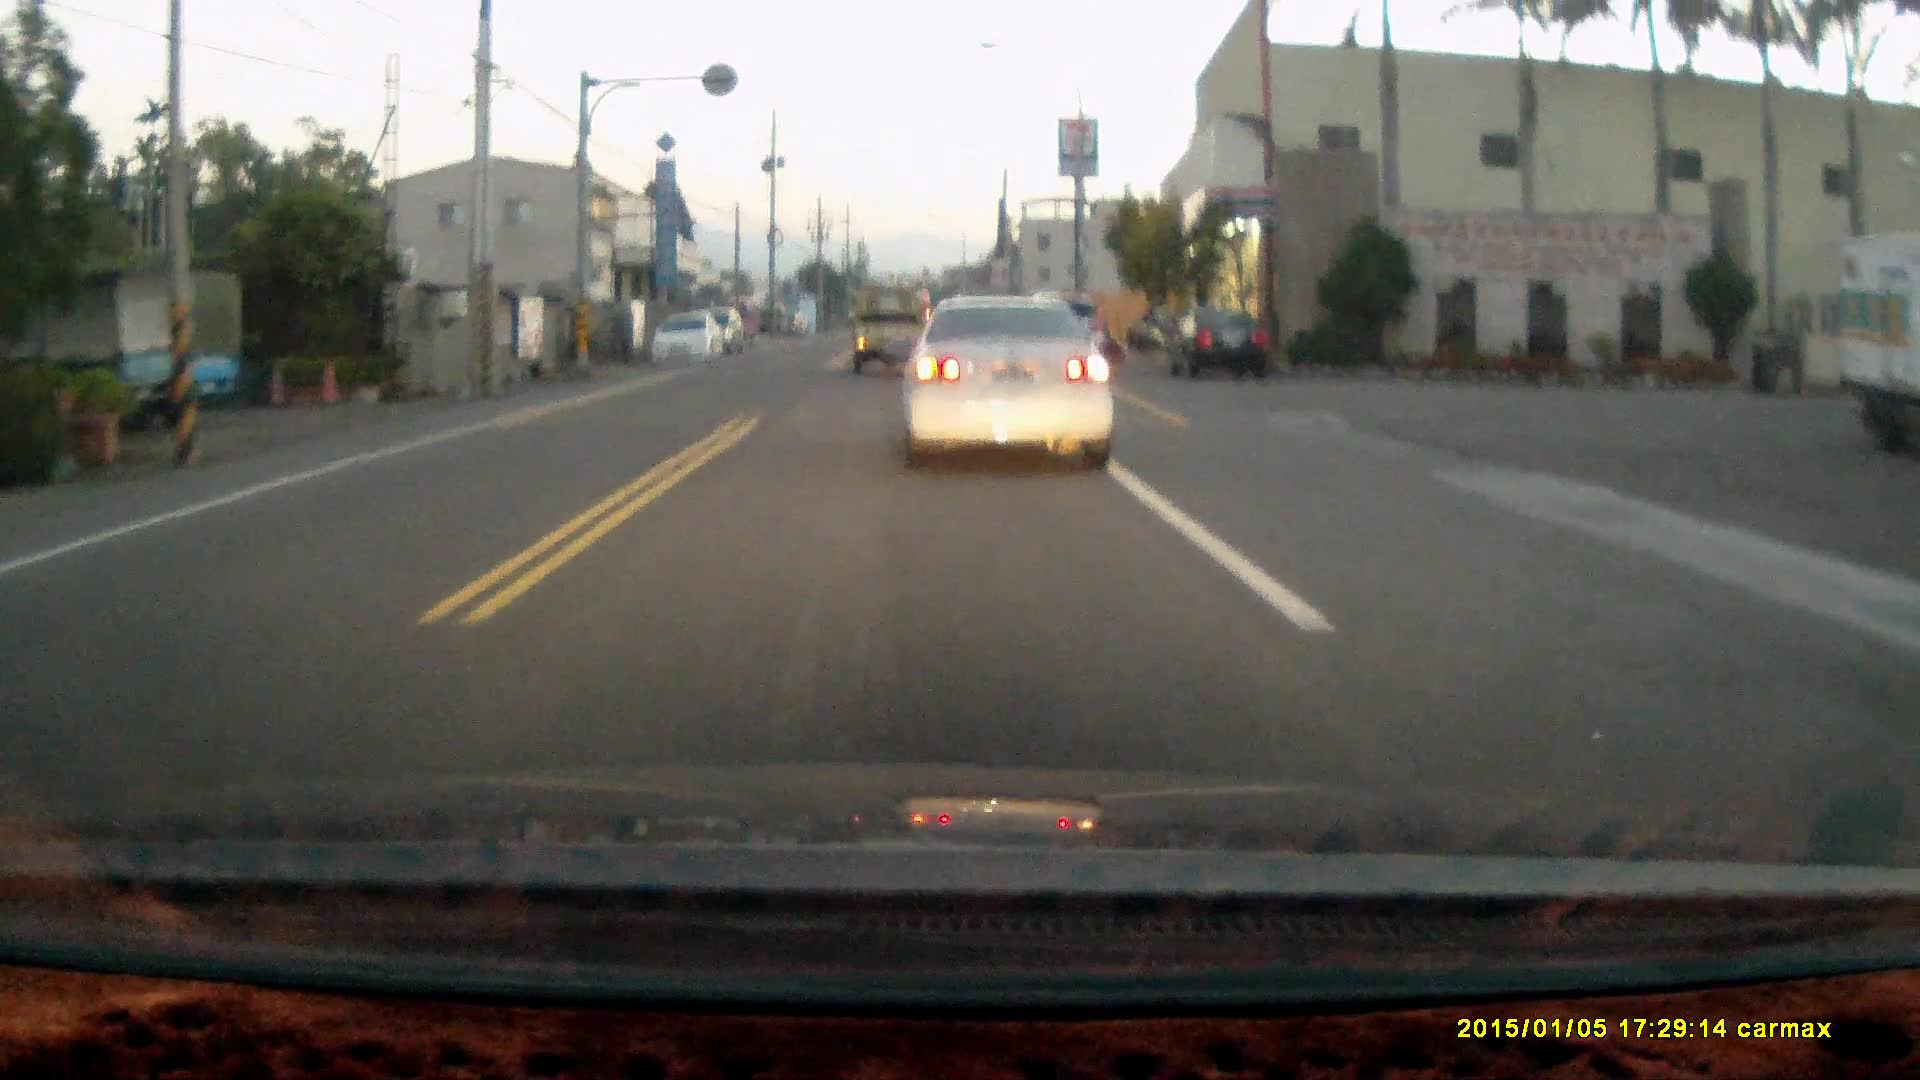vehicle: (905, 293, 1122, 480), (1836, 237, 1920, 465), (1162, 302, 1274, 377), (851, 289, 930, 376), (646, 309, 729, 364)
